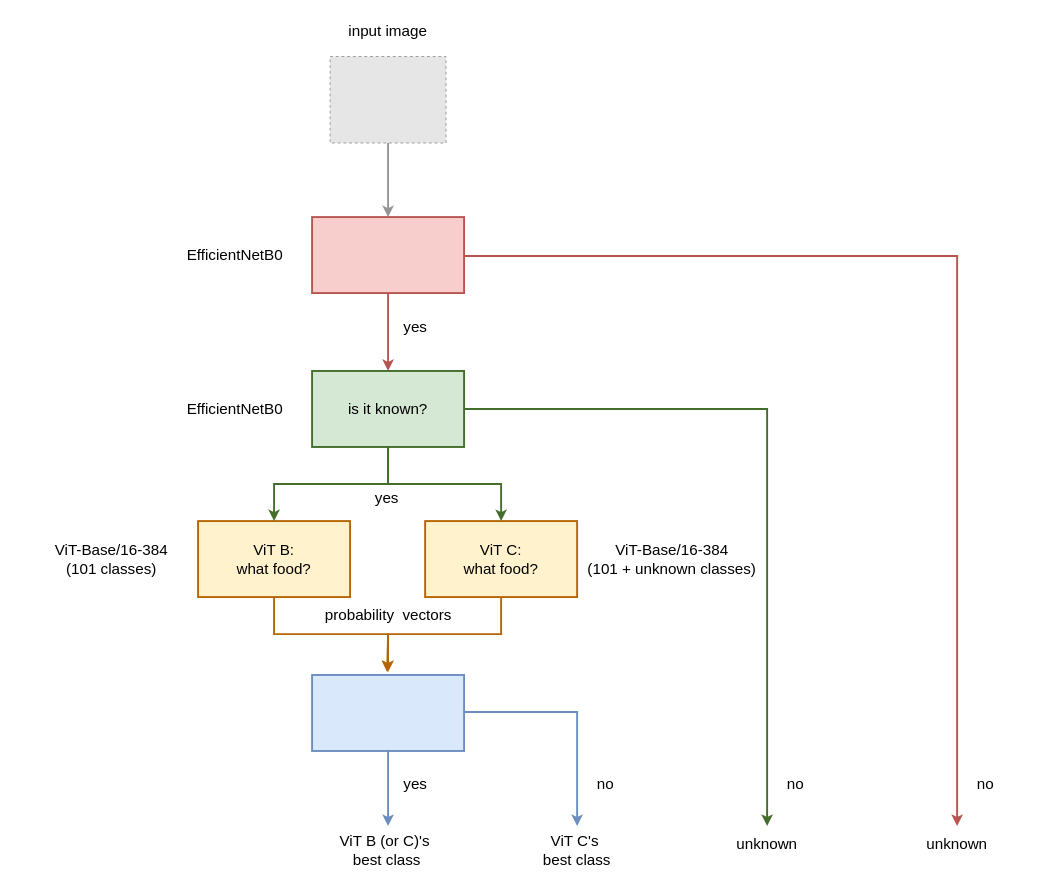
Image size: 1058x884. Some labels were removed from this diagram. Grey dashed boxes stand in for pictures. The box of each missing label's shape, as (x1, y1, x2, y2) in pixels:
is it food?: (311, 216, 465, 294)
ViT B & C: same prediction?: (311, 674, 465, 751)
